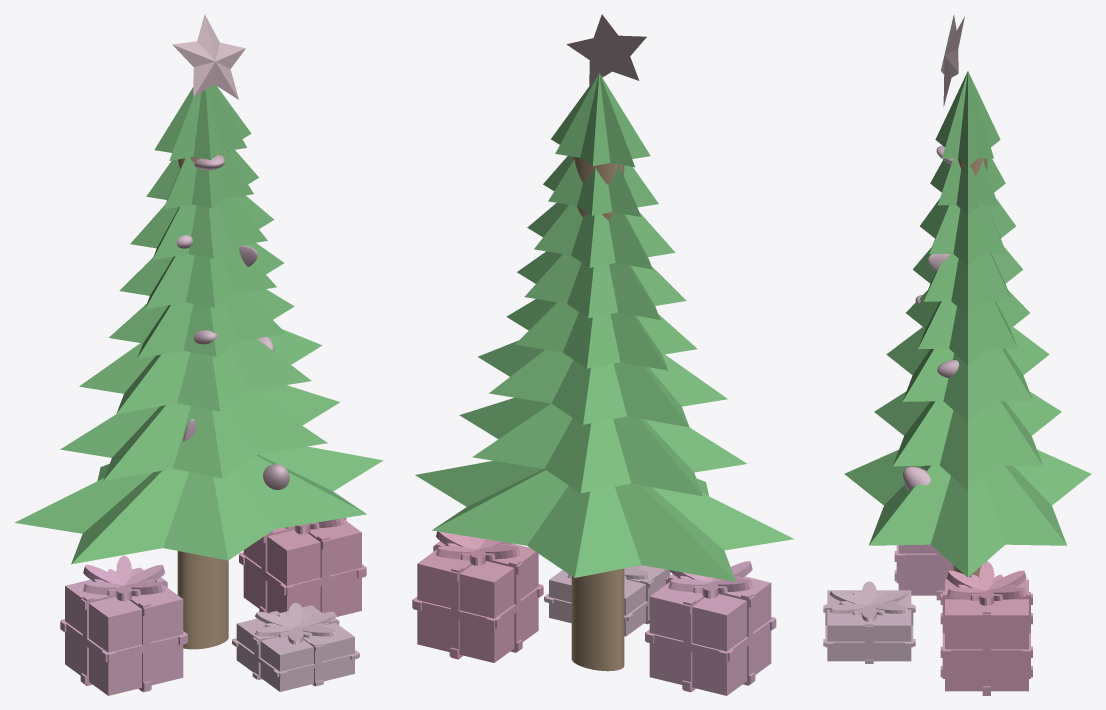
File: XmasTree.glb
The picture shows the model from 3 angles, left to right: view 1: azimuth 30°, elevation 25°; view 2: azimuth 150°, elevation 25°; view 3: azimuth 270°, elevation 25°; orthographic projection. The views are drawn at different scales.
Visible parts, largest first — view 1: Mesh_Mesh_head_geo.001_lambert2SG.001; view 2: Mesh_Mesh_head_geo.001_lambert2SG.001; view 3: Mesh_Mesh_head_geo.001_lambert2SG.001.
Boxes of the visible parts, bbox=[...] form: Mesh_Mesh_head_geo.001_lambert2SG.001: bbox=[14, 14, 383, 695]; Mesh_Mesh_head_geo.001_lambert2SG.001: bbox=[412, 14, 794, 695]; Mesh_Mesh_head_geo.001_lambert2SG.001: bbox=[823, 15, 1091, 695].
Bounding box in the file's own units: 0.091 × 0.1603 × 0.064.
